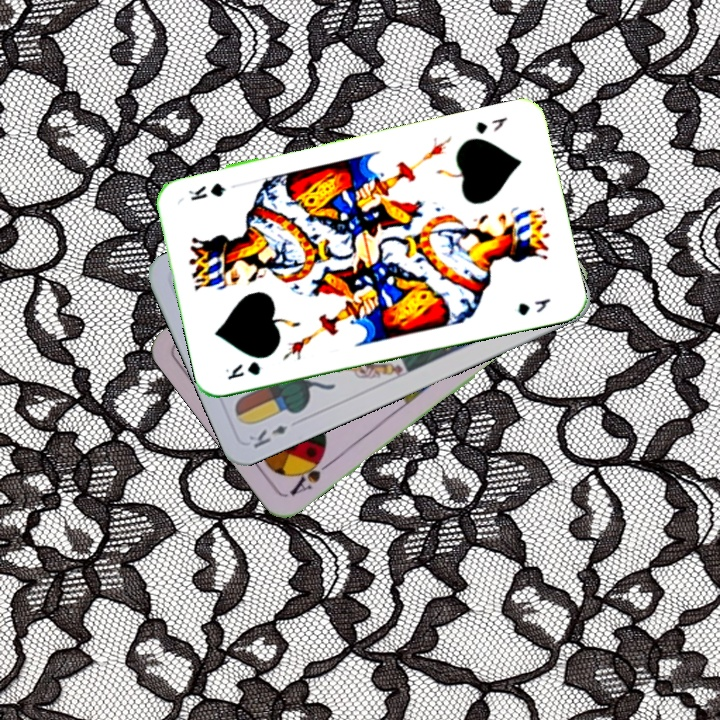EK: (244, 421, 290, 451)
GK: (221, 357, 263, 383), (472, 112, 510, 137)
SA: (285, 449, 336, 499)
